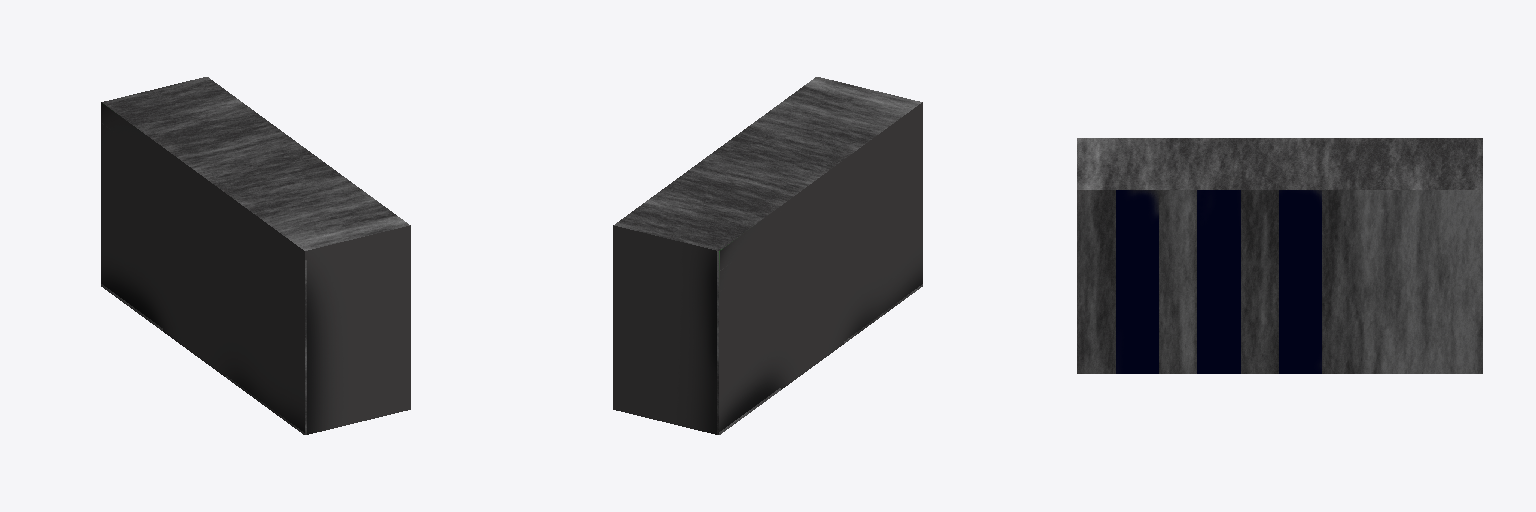
The picture shows the model from 3 angles: view 1: azimuth 30°, elevation 25°; view 2: azimuth 150°, elevation 25°; view 3: azimuth 270°, elevation 25°; orthographic projection.
Visible parts, largest first — view 1: VijfdeGebouwLinks; view 2: VijfdeGebouwLinks; view 3: VijfdeGebouwLinks.
Part boxes in pixels (bbox=[...]): VijfdeGebouwLinks: bbox=[101, 77, 410, 434]; VijfdeGebouwLinks: bbox=[613, 77, 922, 434]; VijfdeGebouwLinks: bbox=[1077, 138, 1482, 373].
Size of the model in its own units: 1181 by 1969 by 3937.
Materials: 1 (1 with a texture image).